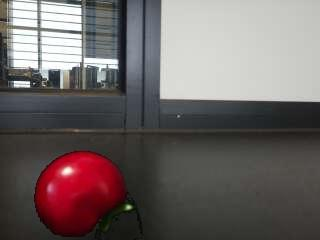Tomato: (34, 154, 134, 238)
